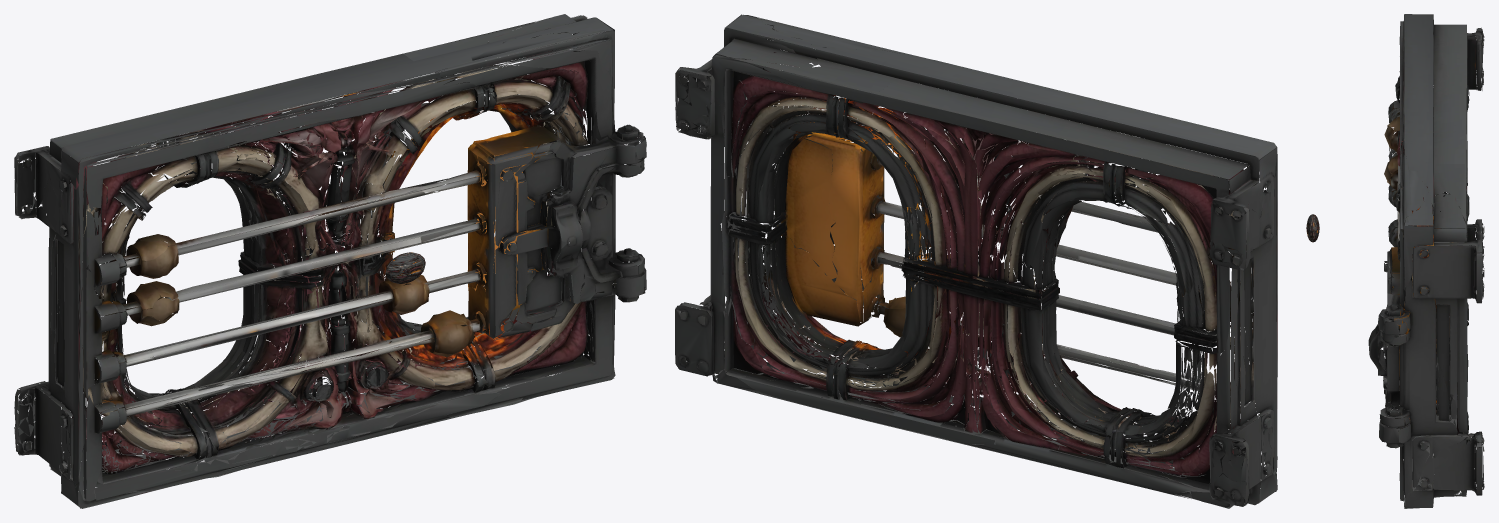
The model's file is evac_passenger_muster_abacus.glb.
The picture shows the model from 3 angles, left to right: view 1: azimuth 30°, elevation 25°; view 2: azimuth 150°, elevation 25°; view 3: azimuth 270°, elevation 25°; orthographic projection. The views are drawn at different scales.
Parts seen in each view (by area): view 1: node_0, HB_PULSE_00; view 2: node_0; view 3: node_0, HB_PULSE_00.
Part boxes in pixels (x1,y1,x2,y2): node_0: (14,14,646,508); HB_PULSE_00: (385,252,425,283); node_0: (675,14,1277,508); node_0: (1368,14,1484,508); HB_PULSE_00: (1306,214,1319,242).
Bounding box in the file's own units: 1.06 × 0.6181 × 0.3499.
1 material, 1 textured.
